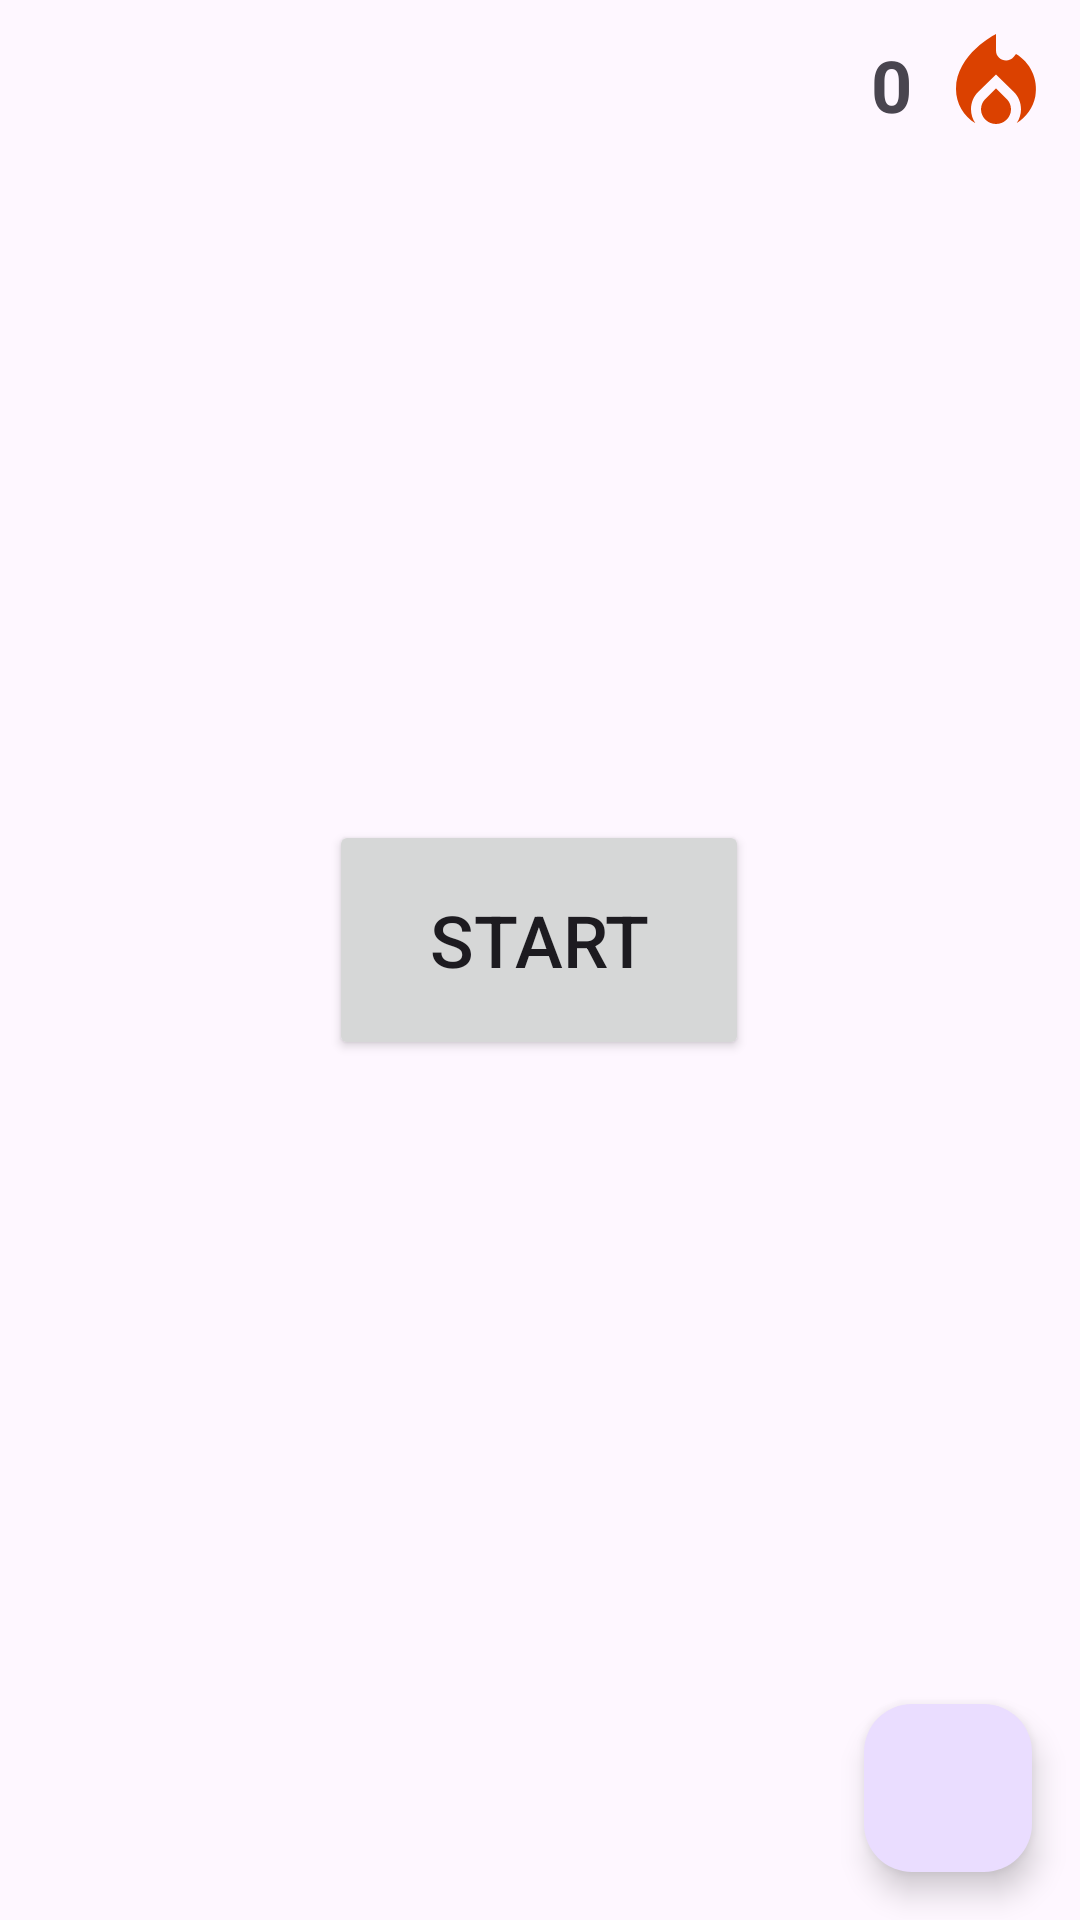

Named icons in this screenshot (1080w x 1920h) and their centers, (x,y):
Flame as addition to number of days: (996,79)
